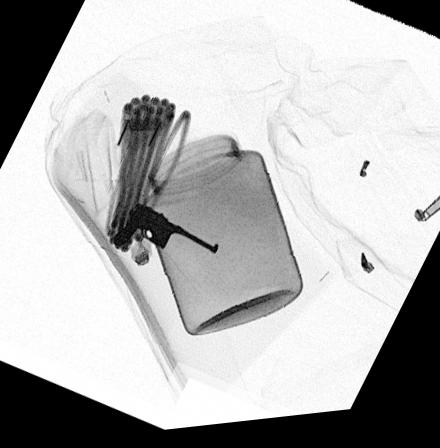Gun: (111, 207, 220, 258)
